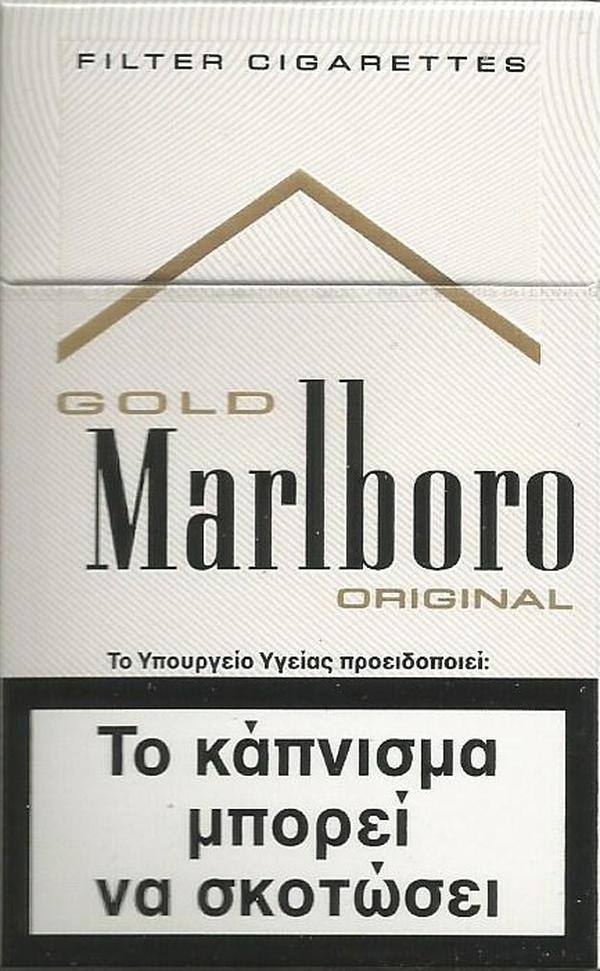marlboro_gold: (6, 8, 599, 971)
